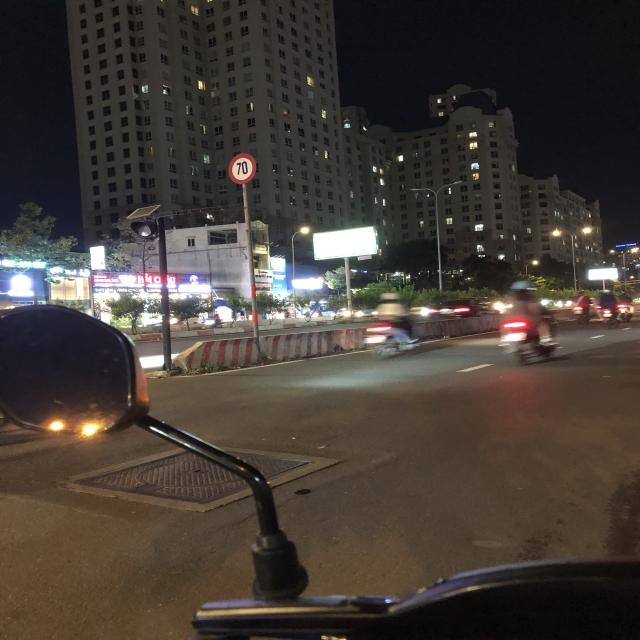Bien bao toc do toi da cho phep: (223, 148, 265, 184)
